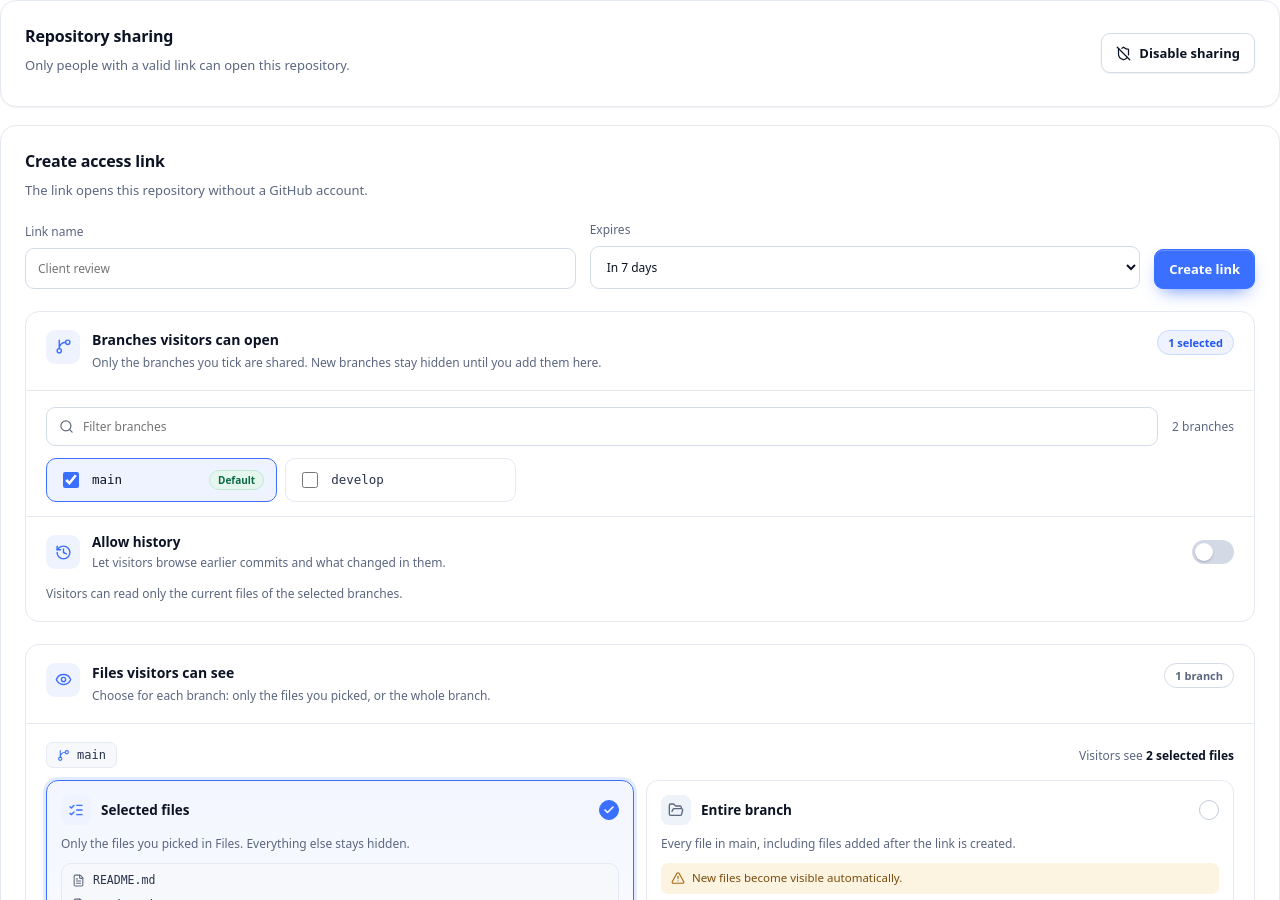
Test: creates a link from the saved rules of the default branch and shows its URL once
Type "Release notes" into the field labelled "Link name".
click(300, 268); type("Release notes")  # box [25,248,576,289]
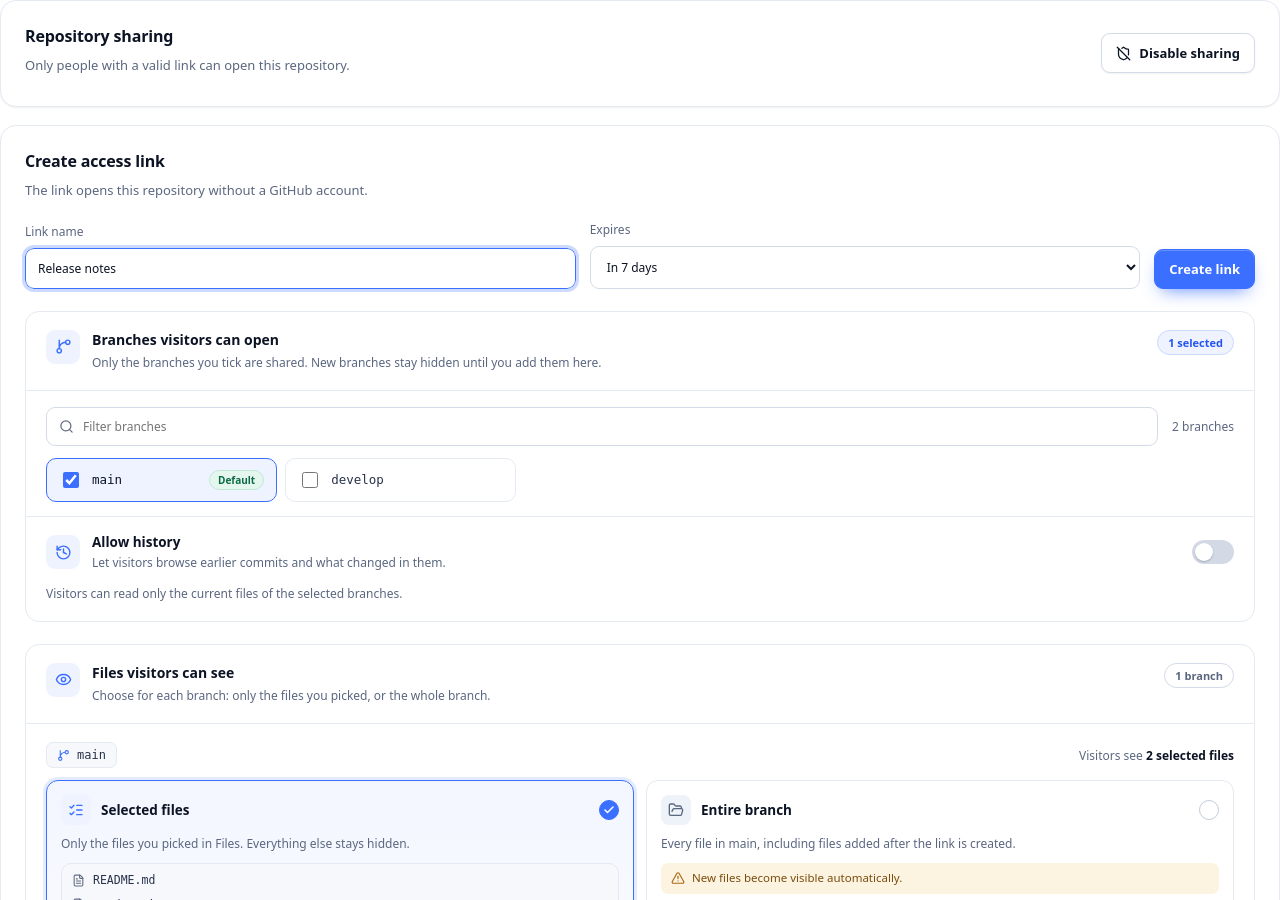
Click the button "Create link".
click(1205, 269)  # box [1154,249,1255,289]
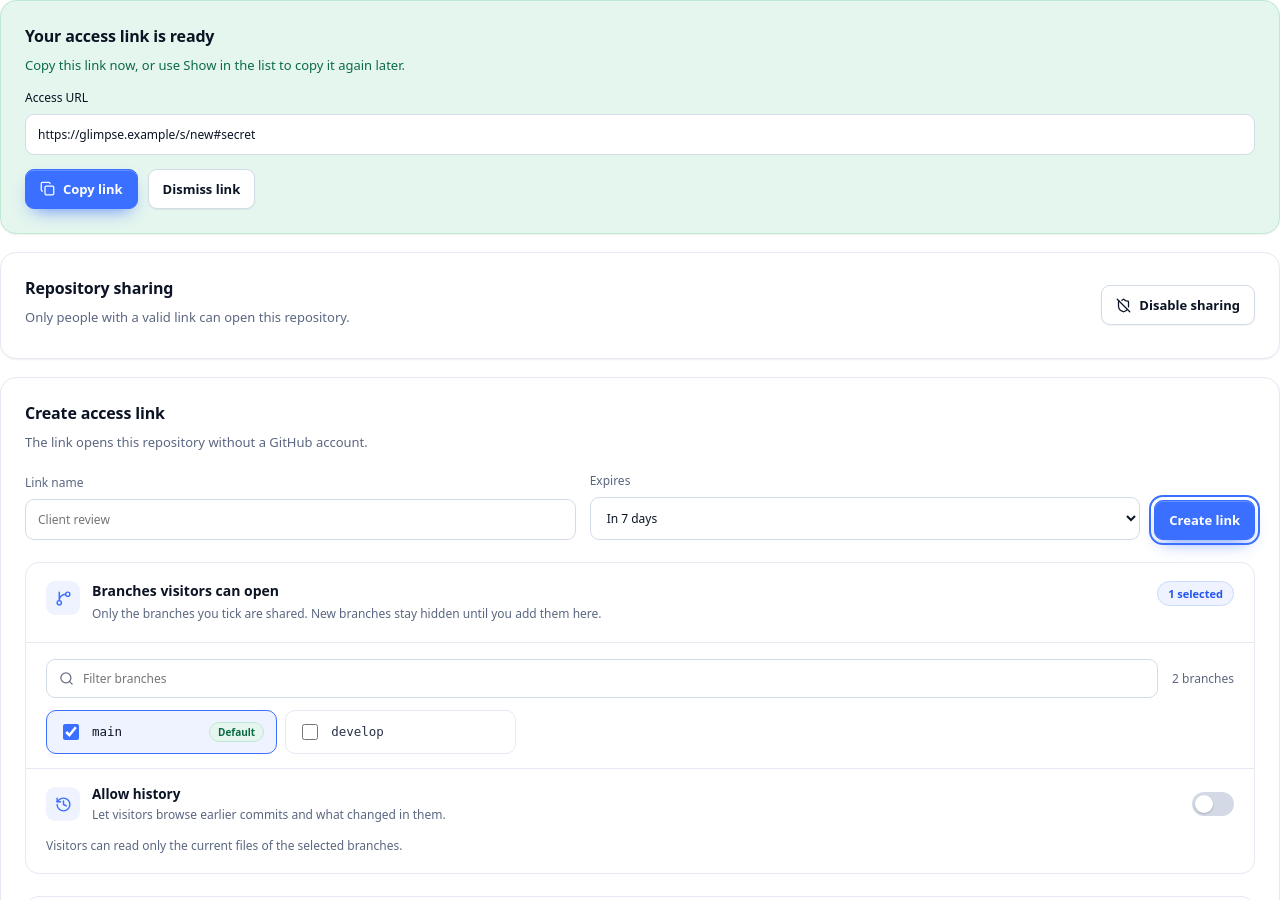
Expected: the field labelled "Access URL" holds "https://glimpse.example/s/new#secret", [25,114,1255,155]
Expected: the field labelled "Link name" is empty, [25,499,576,540]
Click the button "Dismiss link".
click(201, 189)  # box [148,169,255,209]
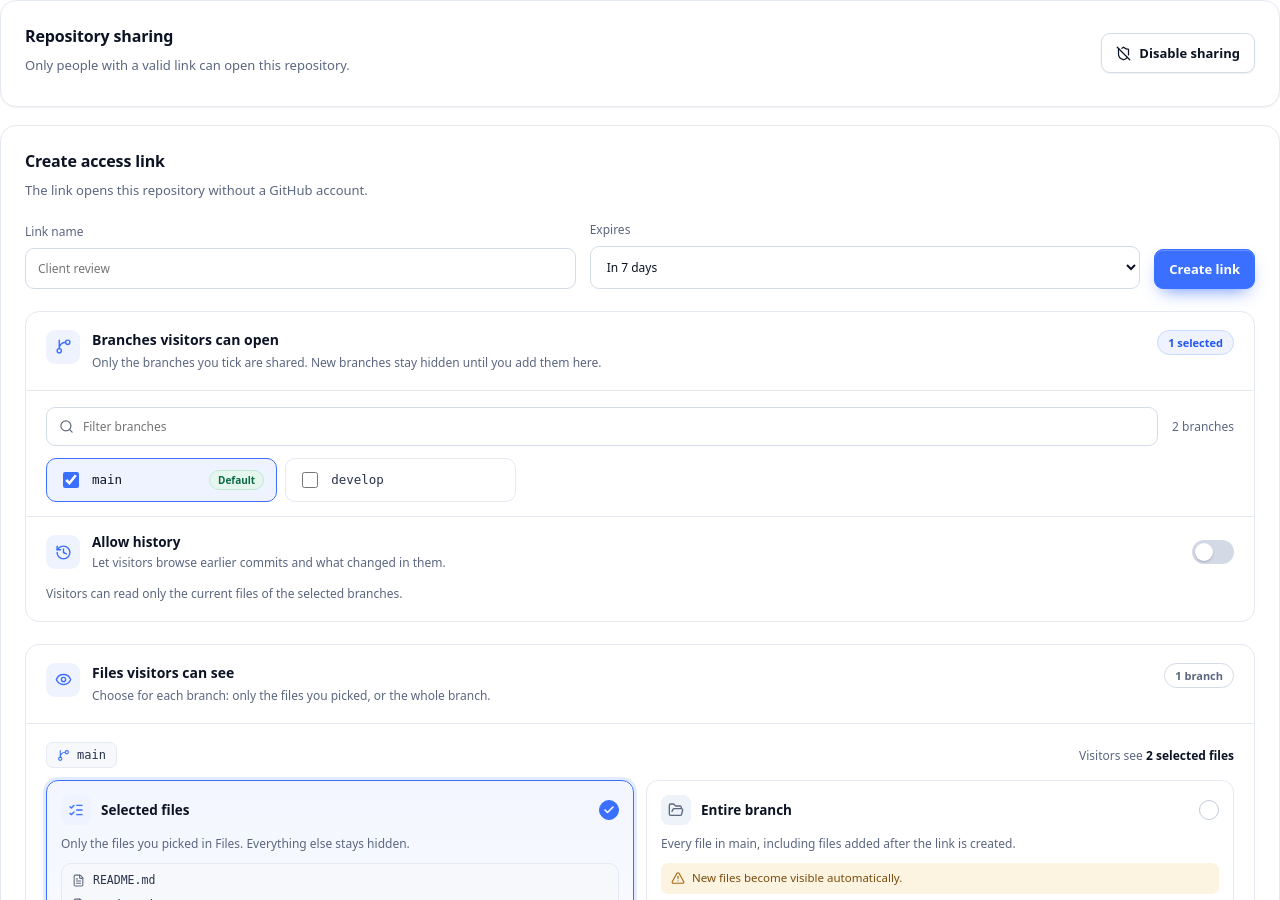
Expected: the heading "Your access link is ready" is gone
